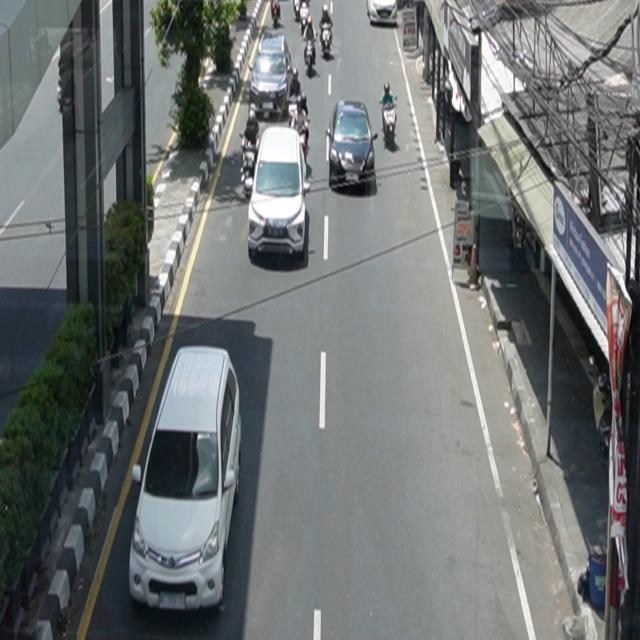car: (129, 345, 243, 613), (326, 100, 379, 188), (367, 1, 399, 27)
